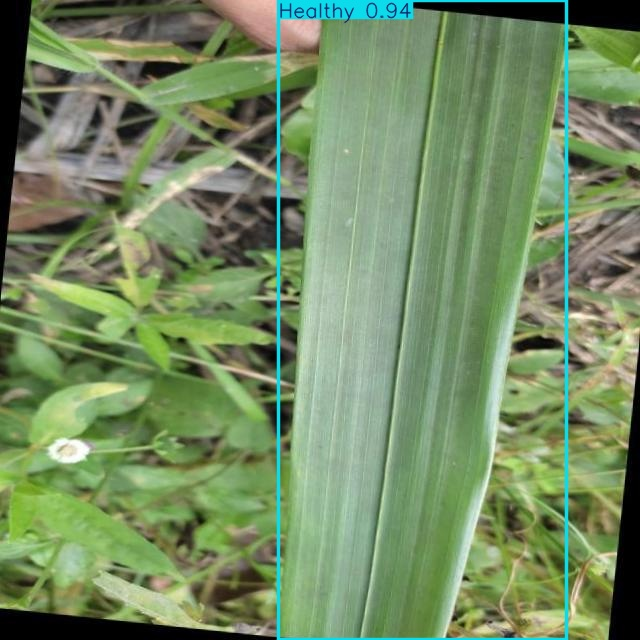Healthy: (278, 1, 567, 640)
